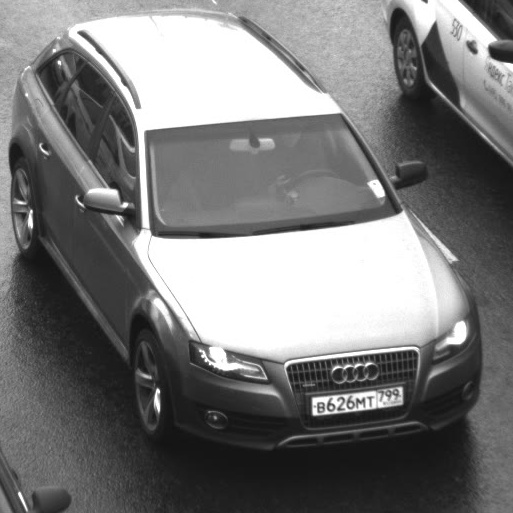plate: (297, 374, 411, 423)
